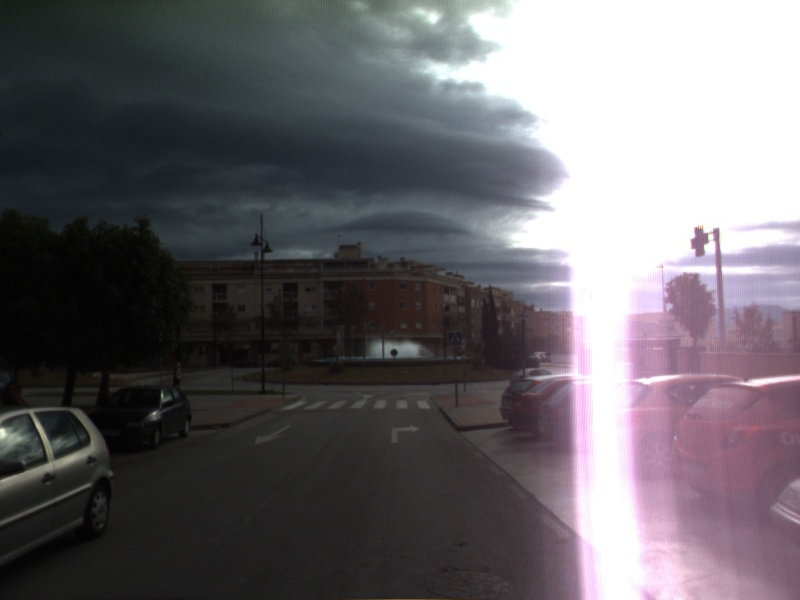RIGHT: (389, 422, 422, 445)
